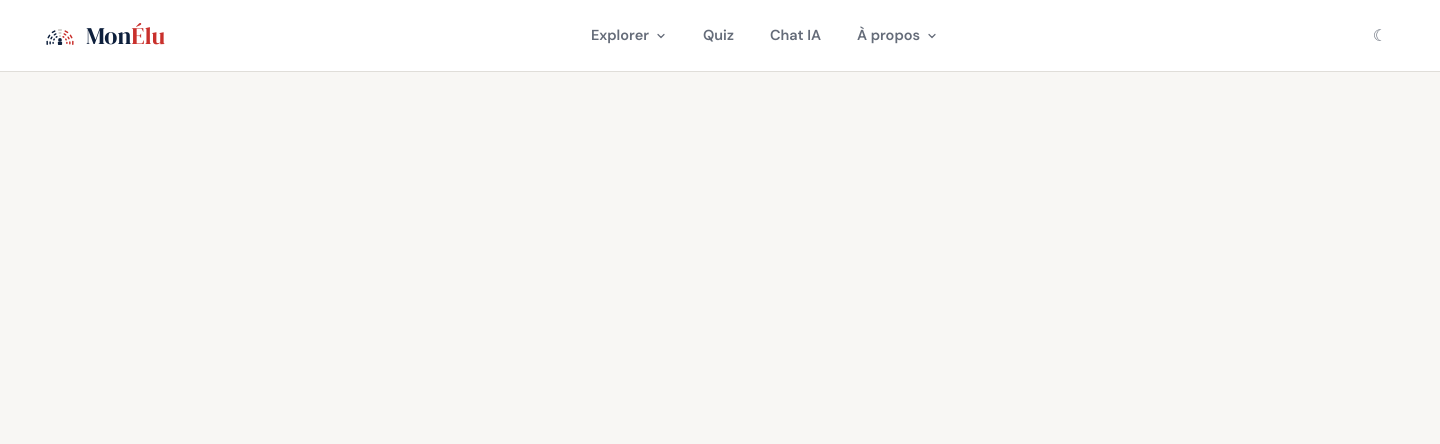
Test: Nav › closes the open menu on Escape
Click the button "Explorer": x=629, y=36 [591, 25, 667, 46]
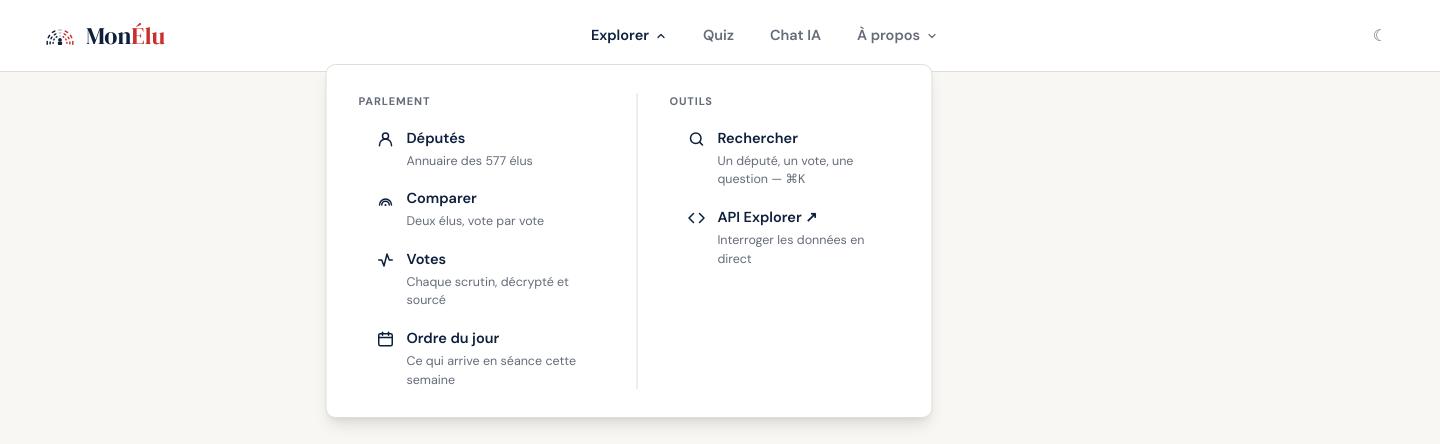
expect the button "Explorer" is expanded: met, box [591, 25, 667, 46]
Press Escape
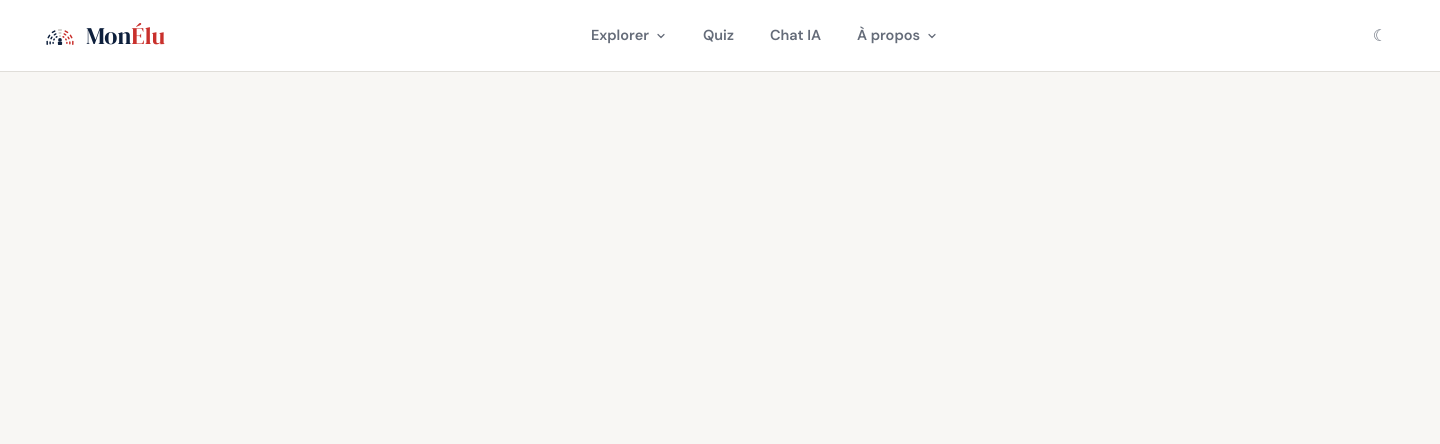
expect the button "Explorer" is collapsed: met, box [591, 25, 667, 46]
